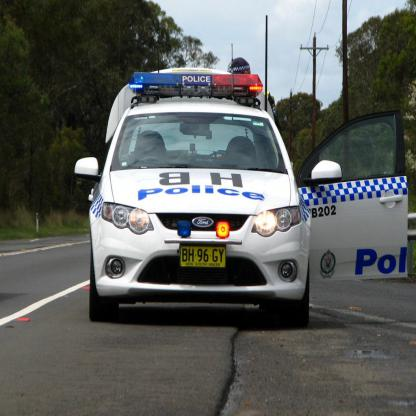Car: (75, 42, 408, 322)
